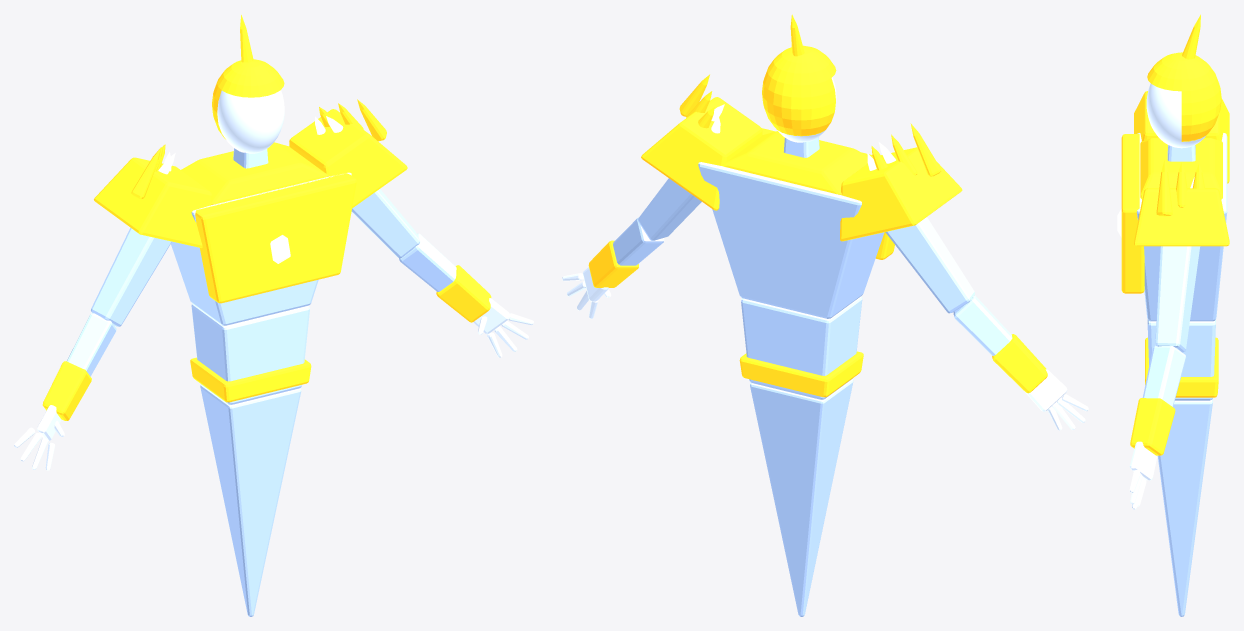
The model's file is light_god_B.glb.
3 renders of one model, left to right at view 1: azimuth 30°, elevation 25°; view 2: azimuth 150°, elevation 25°; view 3: azimuth 270°, elevation 25°, orthographic. The views are drawn at different scales.
Visible parts, largest first — view 1: god_body, god_tail, god_head; view 2: god_body, god_tail; view 3: god_body, god_tail, god_head.
Part boxes in pixels (x1=…): god_body: x1=14, y1=15, x2=533, y2=470; god_tail: x1=200, y1=384, x2=301, y2=616; god_head: x1=217, y1=90, x2=284, y2=153; god_body: x1=562, y1=14, x2=1088, y2=430; god_tail: x1=750, y1=379, x2=853, y2=616; god_body: x1=1117, y1=14, x2=1229, y2=509; god_tail: x1=1157, y1=398, x2=1212, y2=616; god_head: x1=1146, y1=83, x2=1205, y2=148.
Size of the model in its own units: 2.11 by 2.33 by 0.3934.
